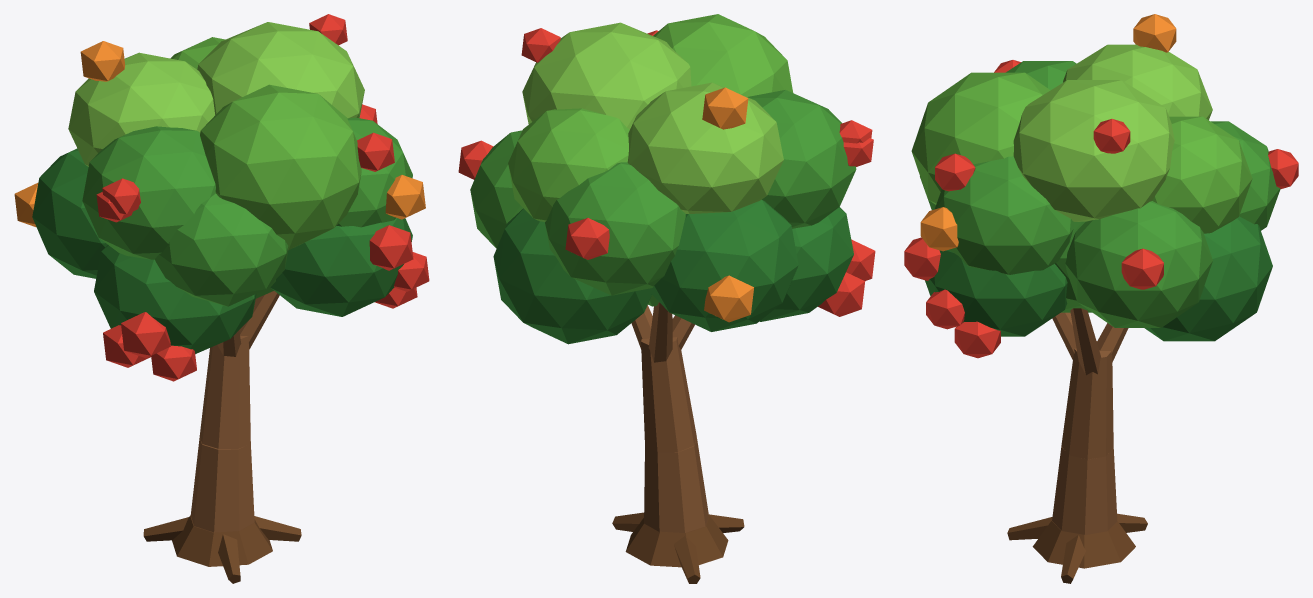
Rendered from tree-apple.glb.
The picture shows the model from 3 angles, left to right: view 1: azimuth 30°, elevation 25°; view 2: azimuth 150°, elevation 25°; view 3: azimuth 270°, elevation 25°; orthographic projection. The views are drawn at different scales.
Visible parts, largest first — view 1: Apple_Crown, Apple_Trunk; view 2: Apple_Crown, Apple_Trunk; view 3: Apple_Crown, Apple_Trunk.
Part boxes in pixels (x1=…): Apple_Crown: x1=14, y1=14, x2=429, y2=381; Apple_Trunk: x1=143, y1=291, x2=301, y2=583; Apple_Crown: x1=458, y1=14, x2=875, y2=344; Apple_Trunk: x1=612, y1=302, x2=744, y2=583; Apple_Crown: x1=904, y1=14, x2=1298, y2=358; Apple_Trunk: x1=1007, y1=308, x2=1147, y2=583.
Size of the model in its own units: 2.16 by 3.07 by 2.2.
